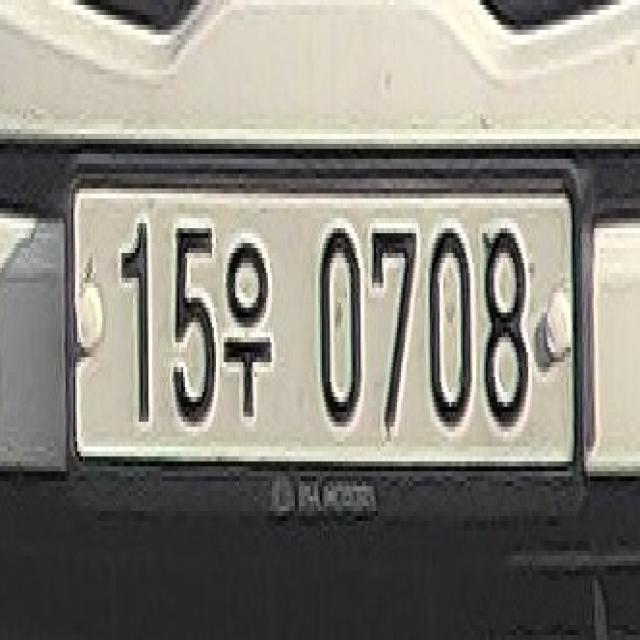0: (312, 208, 370, 442), (424, 214, 478, 446)
1: (116, 204, 160, 442)
5: (168, 208, 222, 436)
7: (368, 214, 422, 446)
8: (480, 214, 534, 452)
license_plate: (56, 149, 597, 541)
u: (222, 214, 276, 442)
